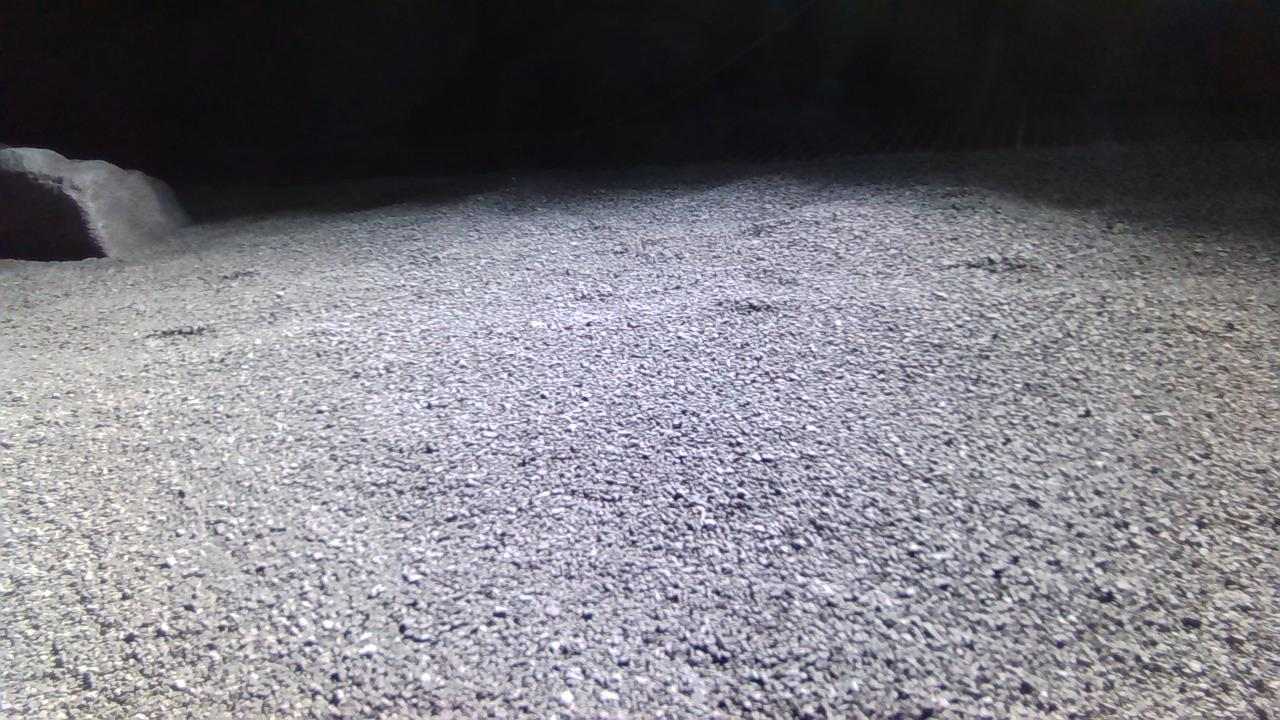rock: (0, 146, 189, 260)
